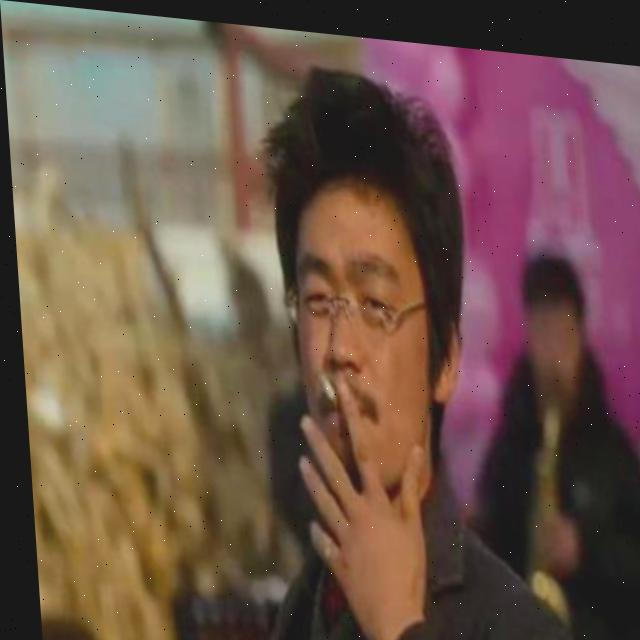cigarette: (311, 362, 332, 395)
